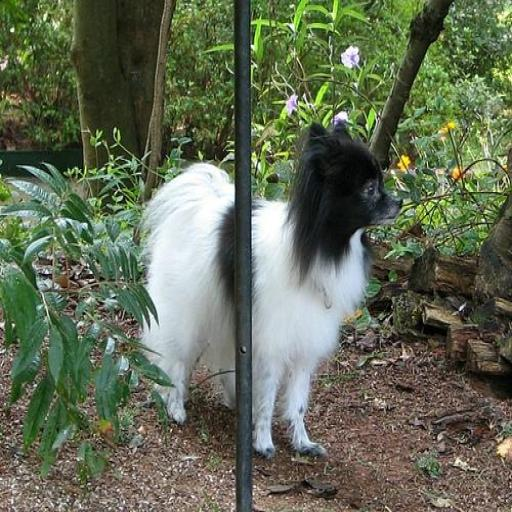dog_face: (285, 116, 416, 248)
